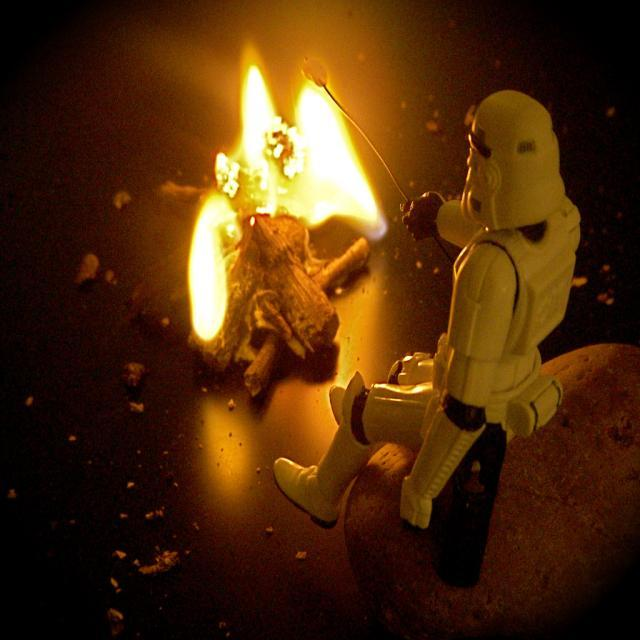Fire: (296, 73, 362, 227), (188, 186, 238, 347), (238, 60, 282, 174)
